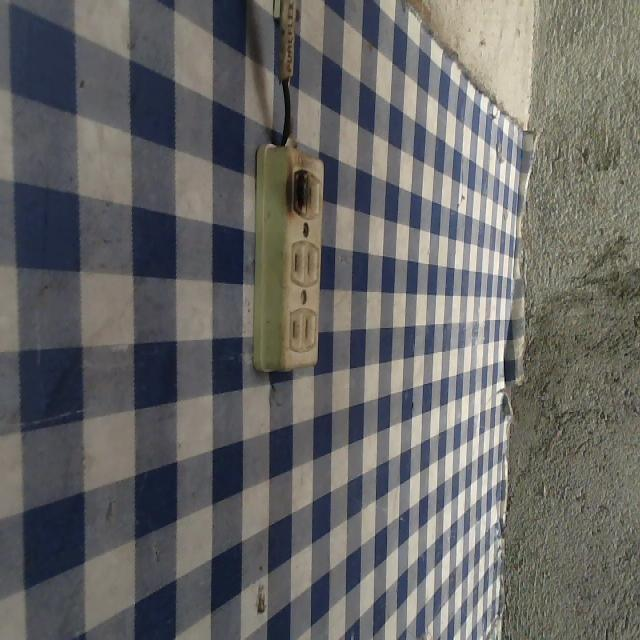-: (284, 171, 313, 224)
